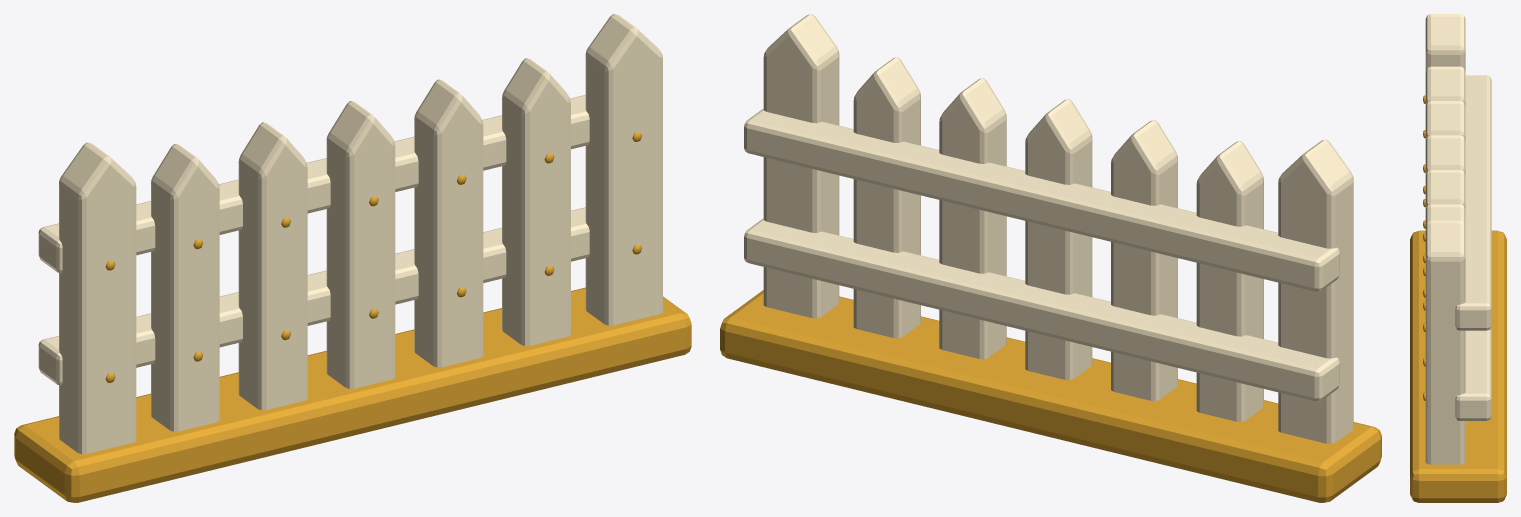
Rendered from fence.glb.
3 renders of one model, left to right at view 1: azimuth 30°, elevation 25°; view 2: azimuth 150°, elevation 25°; view 3: azimuth 270°, elevation 25°, orthographic. The views are drawn at different scales.
Visible parts, largest first — view 1: Boulevard_cream.003, Boulevard_gold.004; view 2: Boulevard_cream.003, Boulevard_gold.004; view 3: Boulevard_cream.003, Boulevard_gold.004.
Part boxes in pixels (x1,y1,x2,y2): Boulevard_cream.003: (38,14,662,454); Boulevard_gold.004: (14,132,691,502); Boulevard_cream.003: (744,14,1353,443); Boulevard_gold.004: (720,290,1381,502); Boulevard_cream.003: (1425,14,1491,464); Boulevard_gold.004: (1410,95,1506,502).
Bounding box in the file's own units: 2.04 × 1.03 × 0.34.
